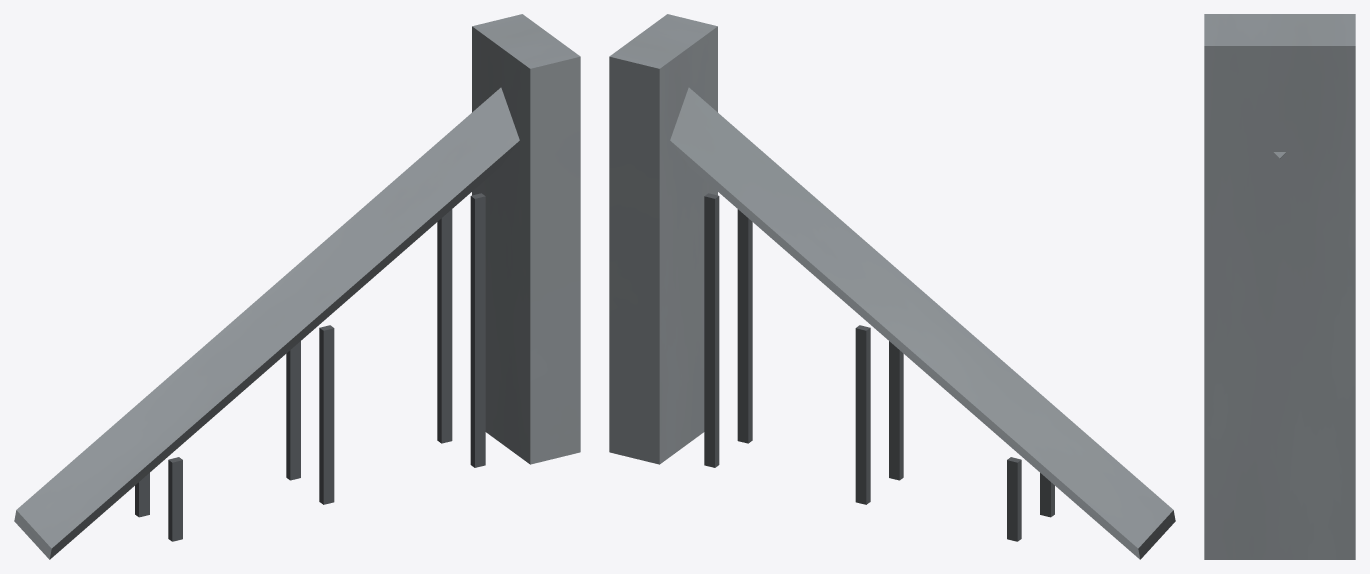
Rendered from pv_dopravnik.glb.
The picture shows the model from 3 angles, left to right: view 1: azimuth 30°, elevation 25°; view 2: azimuth 150°, elevation 25°; view 3: azimuth 270°, elevation 25°; orthographic projection. The views are drawn at different scales.
Parts seen in each view (by area): view 1: dum; view 2: dum; view 3: dum.
Part boxes in pixels (<box>): dum: <box>14,14,580,559</box>; dum: <box>609,14,1175,559</box>; dum: <box>1204,14,1355,559</box>.
Bounding box in the file's own units: 14.89 × 10.64 × 2.79.
Materials: 1 (1 with a texture image).
